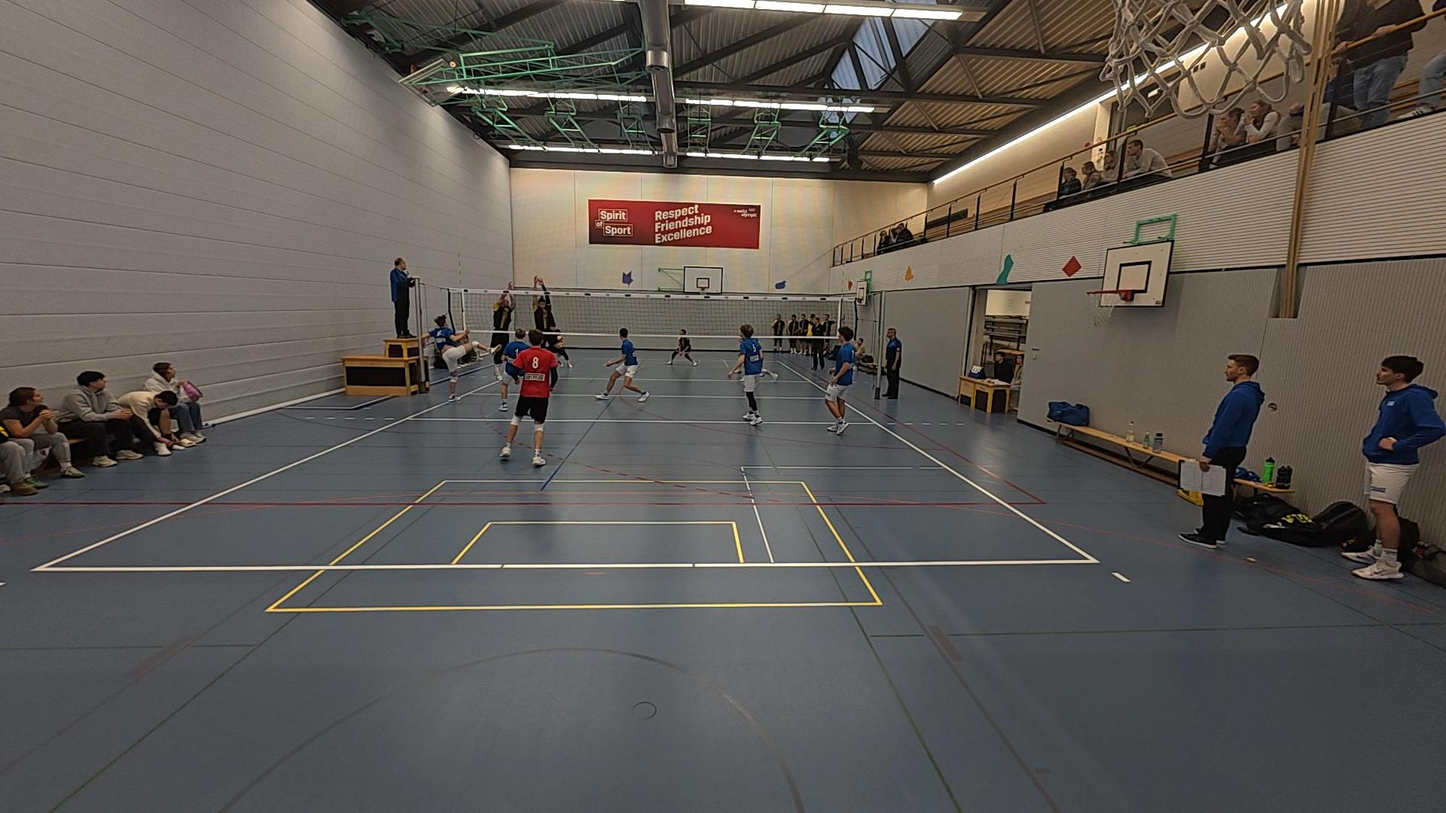difesa: (550, 327, 573, 370)
muro: (528, 271, 569, 366)
